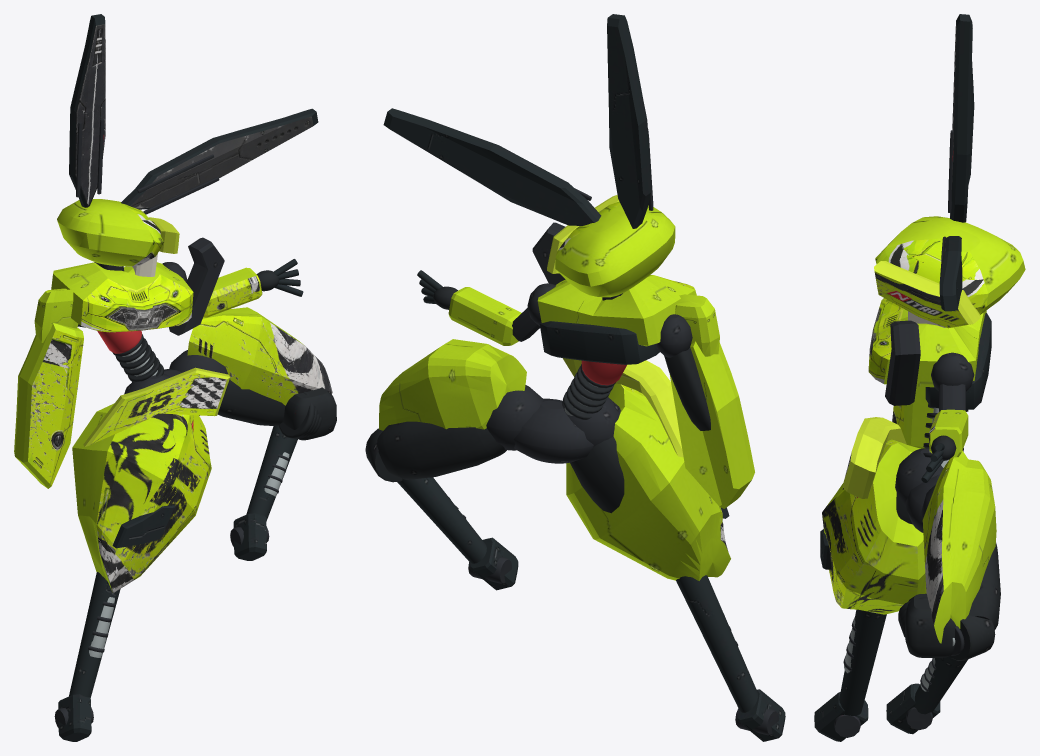
File: compare-nine-nitro-v1.glb
The picture shows the model from 3 angles, left to right: view 1: azimuth 30°, elevation 25°; view 2: azimuth 150°, elevation 25°; view 3: azimuth 270°, elevation 25°; orthographic projection. The views are drawn at different scales.
Visible parts, largest first — view 1: Number five fairing, Long forearm fairing, Folded far thigh cowl, Headlamp breast fairing, Black antenna vane 2, Helmet pod, Black antenna vane, Swept hip fender, Racing stilt, Open chest guard, Tendon thigh 2, Straight forearm fairing (+10 smaller); view 2: Number five fairing, Folded far thigh cowl, Black antenna vane 2, Helmet pod, Long forearm fairing, Black antenna vane, Headlamp breast fairing, Tendon thigh 2, Racing stilt, Underbust spar, Pivot chassis, Racing stilt 2 (+14 smaller); view 3: Number five fairing, Folded far thigh cowl, Helmet pod, Headlamp breast fairing, Black antenna vane, Nitro visor, Racing stilt, Swept hip fender, Open chest guard, Far knee joint boot, Black antenna vane 2, Long forearm fairing (+14 smaller).
Part boxes in pixels (left/top/right/bottom): Number five fairing: left=72, top=403, right=211, bottom=592; Long forearm fairing: left=14, top=323, right=83, bottom=488; Folded far thigh cowl: left=187, top=307, right=332, bottom=405; Headlamp breast fairing: left=51, top=262, right=193, bottom=332; Black antenna vane 2: left=121, top=108, right=318, bottom=209; Helmet pod: left=57, top=199, right=163, bottom=266; Black antenna vane: left=69, top=14, right=105, bottom=207; Swept hip fender: left=83, top=367, right=230, bottom=446; Racing stilt: left=69, top=572, right=120, bottom=697; Open chest guard: left=169, top=237, right=224, bottom=335; Tendon thigh 2: left=217, top=380, right=285, bottom=426; Straight forearm fairing: left=203, top=267, right=262, bottom=317; Number five fairing: left=566, top=383, right=730, bottom=580; Folded far thigh cowl: left=379, top=339, right=526, bottom=430; Black antenna vane 2: left=383, top=108, right=601, bottom=225; Helmet pod: left=555, top=201, right=675, bottom=297; Long forearm fairing: left=669, top=341, right=754, bottom=508; Black antenna vane: left=607, top=14, right=651, bottom=228; Headlamp breast fairing: left=537, top=275, right=696, bottom=346; Tendon thigh 2: left=377, top=421, right=506, bottom=479; Racing stilt: left=676, top=575, right=757, bottom=712; Underbust spar: left=539, top=321, right=659, bottom=364; Pivot chassis: left=514, top=398, right=593, bottom=463; Racing stilt 2: left=397, top=477, right=486, bottom=563; Number five fairing: left=822, top=439, right=926, bottom=614; Folded far thigh cowl: left=922, top=450, right=996, bottom=643; Helmet pod: left=875, top=216, right=1025, bottom=314; Headlamp breast fairing: left=868, top=298, right=986, bottom=387; Black antenna vane: left=950, top=14, right=974, bottom=222; Nitro visor: left=874, top=261, right=980, bottom=328; Racing stilt: left=839, top=609, right=886, bottom=716; Swept hip fender: left=842, top=417, right=906, bottom=498; Open chest guard: left=885, top=320, right=920, bottom=405; Far knee joint boot: left=905, top=593, right=956, bottom=657; Black antenna vane 2: left=939, top=236, right=962, bottom=311; Long forearm fairing: left=892, top=386, right=933, bottom=448.
Bounding box in the file's own units: 2.83 × 5.64 × 1.41.
1 material, 1 textured.
